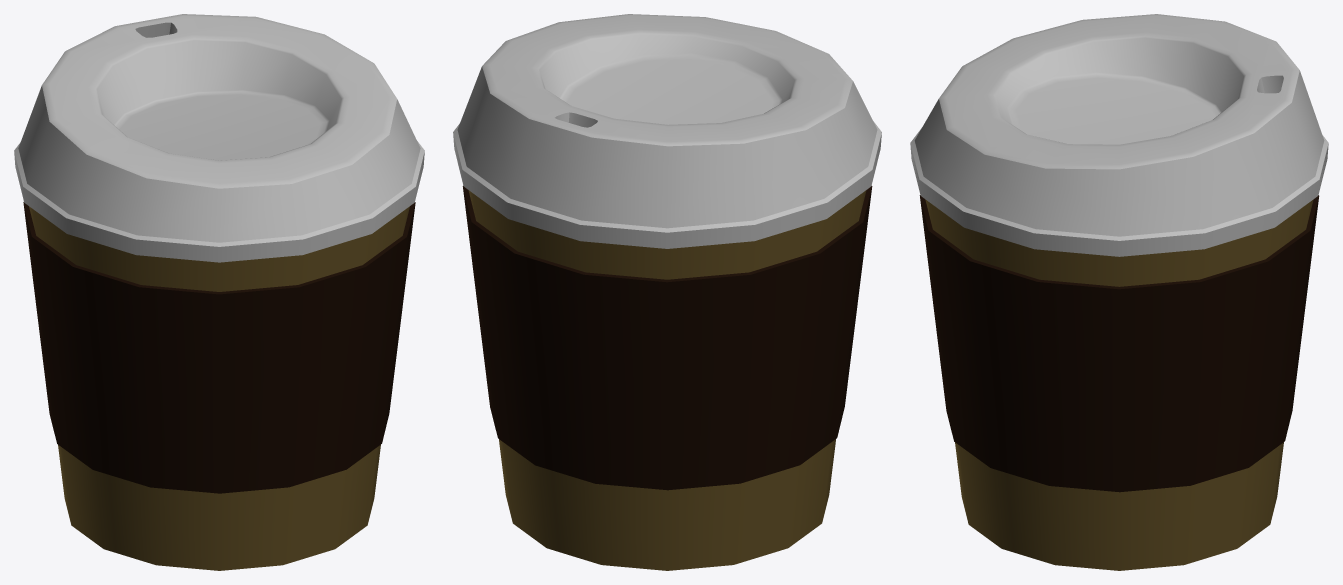
The model's file is General waste - Coffee cup.fbx.
3 renders of one model, left to right at view 1: azimuth 30°, elevation 25°; view 2: azimuth 150°, elevation 25°; view 3: azimuth 270°, elevation 25°, orthographic. The views are drawn at different scales.
Parts seen in each view (by area): view 1: Cylinder001; view 2: Cylinder001; view 3: Cylinder001.
Part boxes in pixels (bbox=[...]): Cylinder001: bbox=[14, 14, 424, 570]; Cylinder001: bbox=[453, 14, 881, 570]; Cylinder001: bbox=[910, 14, 1328, 570].
Size of the model in its own units: 15.21 by 17.22 by 15.29.
